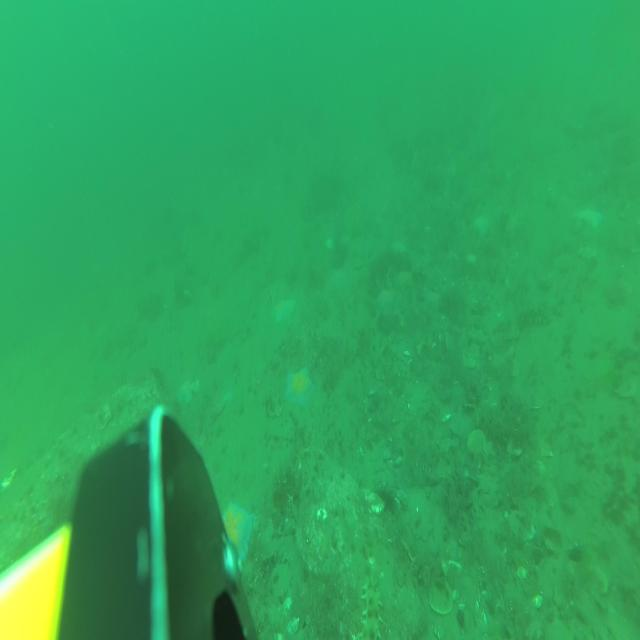echinus: (371, 474, 399, 522)
holothurian: (349, 571, 384, 640), (518, 303, 552, 330)
scallop: (426, 572, 456, 616), (582, 558, 609, 599), (507, 507, 537, 543), (407, 509, 434, 542), (542, 526, 566, 558), (467, 426, 487, 458), (614, 378, 640, 402), (525, 385, 546, 410), (266, 396, 282, 419), (483, 438, 500, 457), (464, 341, 480, 361), (461, 355, 477, 370)
starfish: (216, 494, 257, 566), (282, 361, 315, 412), (571, 204, 606, 232), (269, 295, 296, 326), (372, 286, 398, 318), (470, 213, 490, 243), (176, 379, 194, 411)
